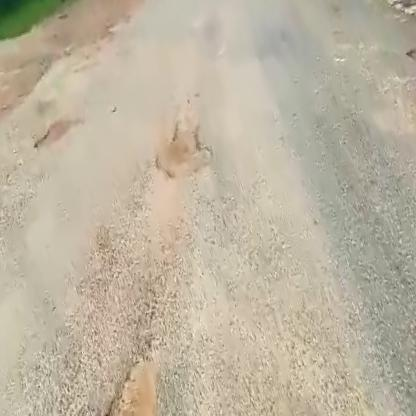pothole: (0, 330, 226, 416), (144, 115, 220, 189), (27, 112, 86, 156)
